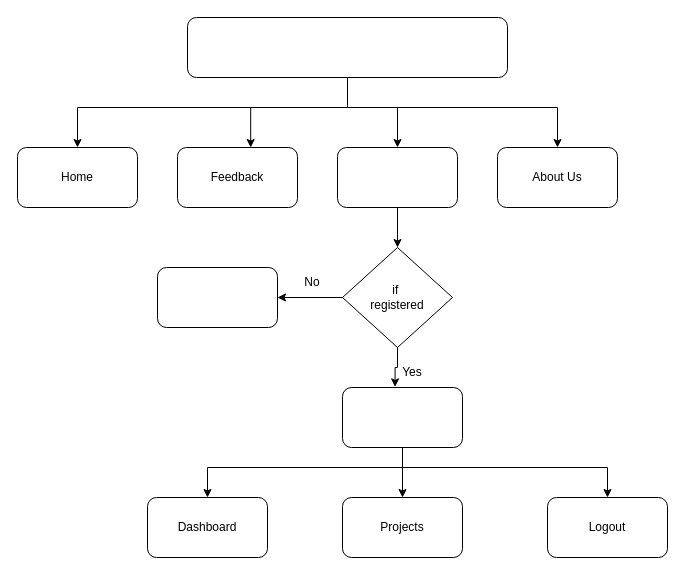
Image size: 685x575. Some labels were removed from this diagram. The centre of each missing label's shape, as x and y in pixels:
Authentication: the point at 397,177
Project Management Tool: the point at 347,47
Sign in: the point at 402,417
Sign Up: the point at 217,297
